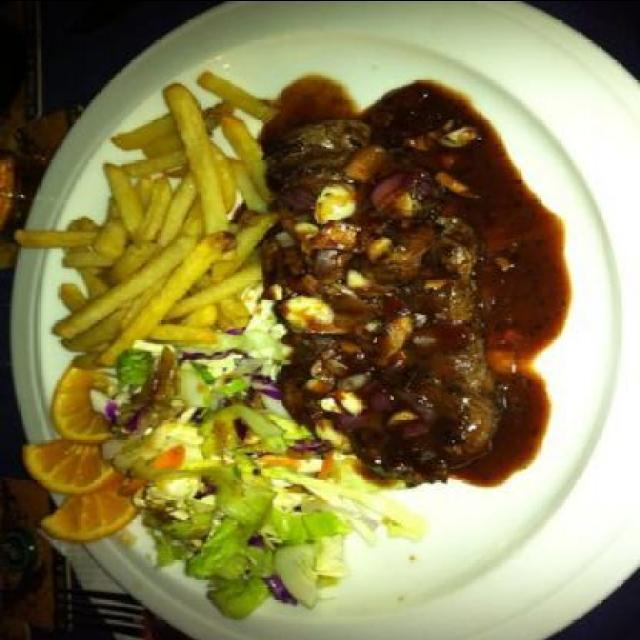French fries: (54, 80, 278, 346)
Steak: (303, 87, 520, 464)
